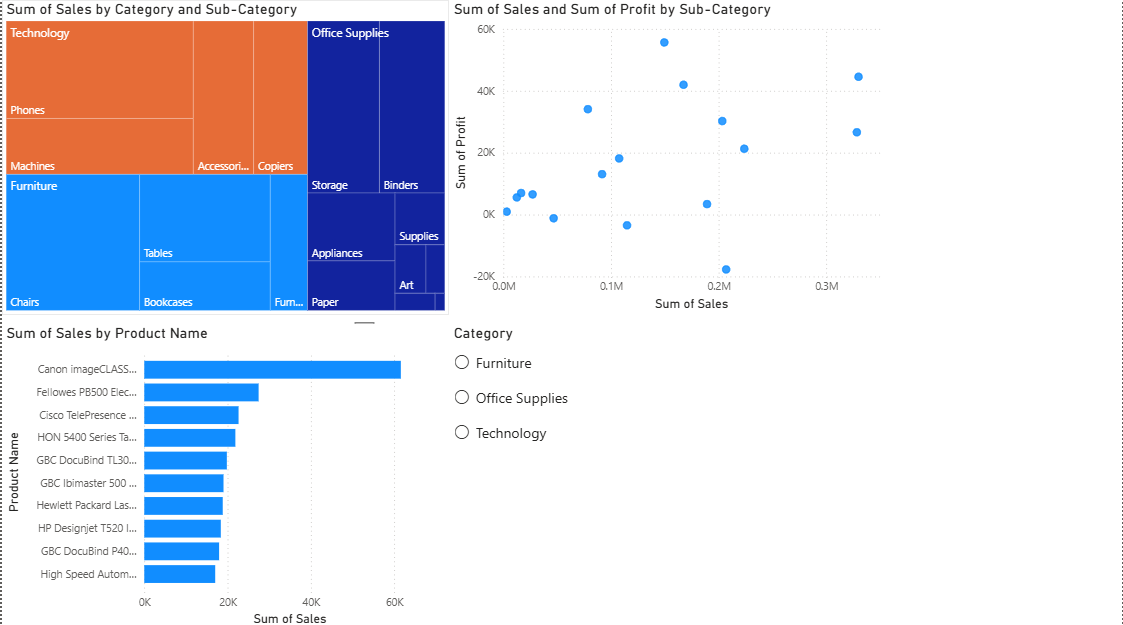

This screenshot's page, from the dashboard's own definition file:
{"tool":"powerbi","page":{"name":"Product Analysis","canvas":[1280,720],"ordinal":1},"visuals":[{"type":"treemap","fields":{"Group":["Sample - Superstore (2).Category"],"Details":["Sample - Superstore (2).Sub-Category"],"Values":["Sum(Sample - Superstore (2).Sales)"]},"box":[0,0,511.2,360],"z":0},{"type":"scatterChart","fields":{"Category":["Sample - Superstore (2).Sub-Category"],"X":["Sum(Sample - Superstore (2).Sales)"],"Y":["Sum(Sample - Superstore (2).Profit)"]},"box":[511.2,0,511.2,360],"z":1000},{"type":"clusteredBarChart","fields":{"Category":["Sample - Superstore (2).Product Name"],"Y":["Sum(Sample - Superstore (2).Sales)"]},"box":[0,370,511,350],"z":2000},{"type":"listSlicer","fields":{"Values":["Sample - Superstore (2).Category"]},"box":[511,370,511,350],"z":3000}]}

Visuals, with their boxes in screenshot pixels (x1, y1, x2, y2), scaled from the page's 1280x720 canvas onto the 1123x625 screenshot:
treemap - Sample - Superstore (2).Category x Sample - Superstore (2).Sub-Category: bbox=[0, 0, 448, 312]
scatterChart - Sample - Superstore (2).Sub-Category x Sum(Sample - Superstore (2).Sales): bbox=[448, 0, 897, 312]
clusteredBarChart - Sample - Superstore (2).Product Name x Sum(Sample - Superstore (2).Sales): bbox=[0, 321, 448, 624]
listSlicer - Sample - Superstore (2).Category: bbox=[448, 321, 897, 624]
